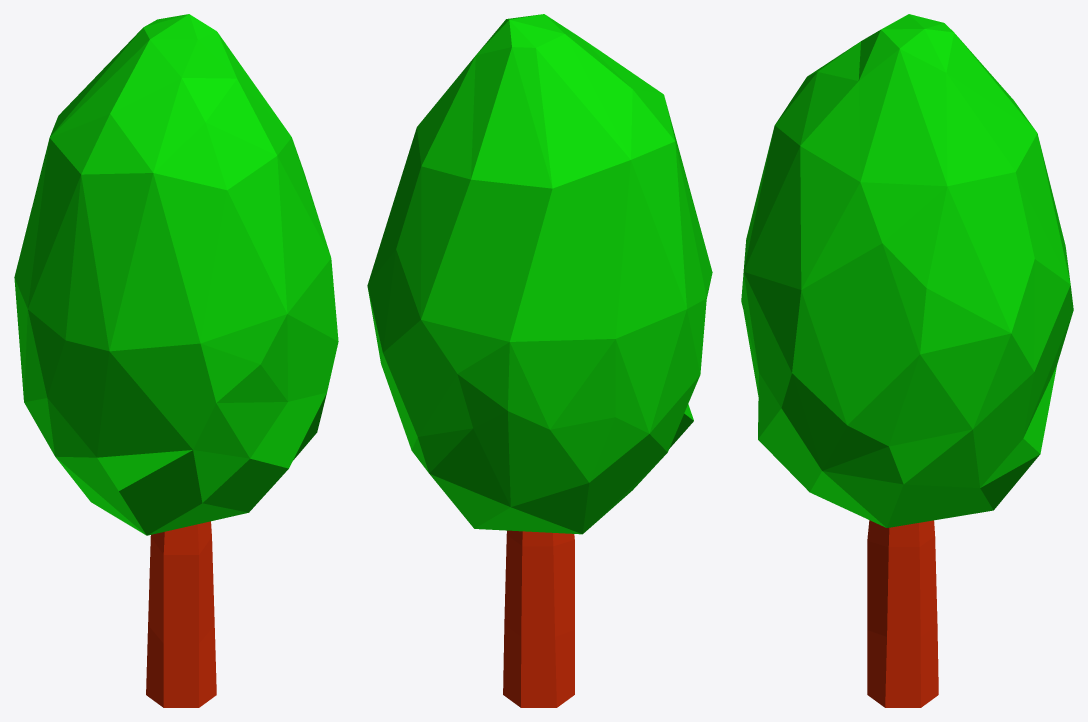
The model's file is CienkieDrzewo2.fbx.
3 renders of one model, left to right at view 1: azimuth 30°, elevation 25°; view 2: azimuth 150°, elevation 25°; view 3: azimuth 270°, elevation 25°, orthographic.
Parts seen in each view (by area): view 1: Kula ico, Walec; view 2: Kula ico, Walec; view 3: Kula ico, Walec.
Boxes of the visible parts, x1=… form: Kula ico: x1=14, y1=14, x2=338, y2=535; Walec: x1=146, y1=521, x2=216, y2=707; Kula ico: x1=367, y1=14, x2=712, y2=534; Walec: x1=503, y1=530, x2=574, y2=707; Kula ico: x1=741, y1=14, x2=1073, y2=527; Walec: x1=867, y1=520, x2=938, y2=707.
Bounding box in the file's own units: 945 × 2084 × 930.
